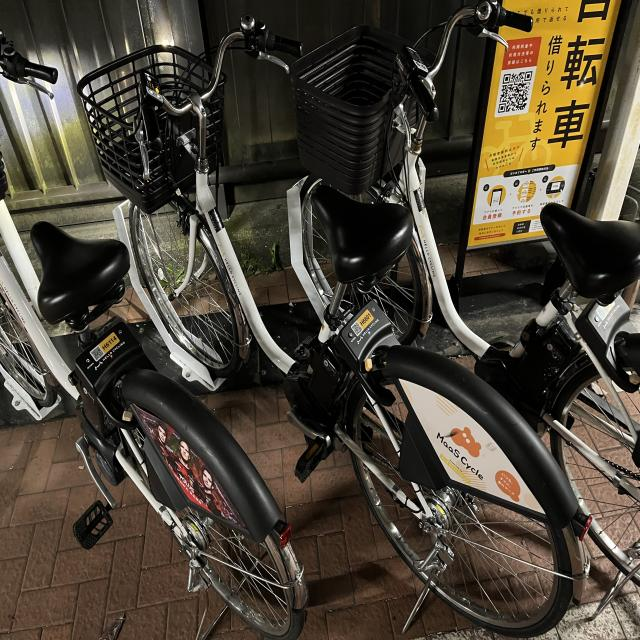basket: (76, 43, 226, 214), (286, 29, 430, 199)
battery: (515, 322, 576, 394), (312, 340, 354, 400)
